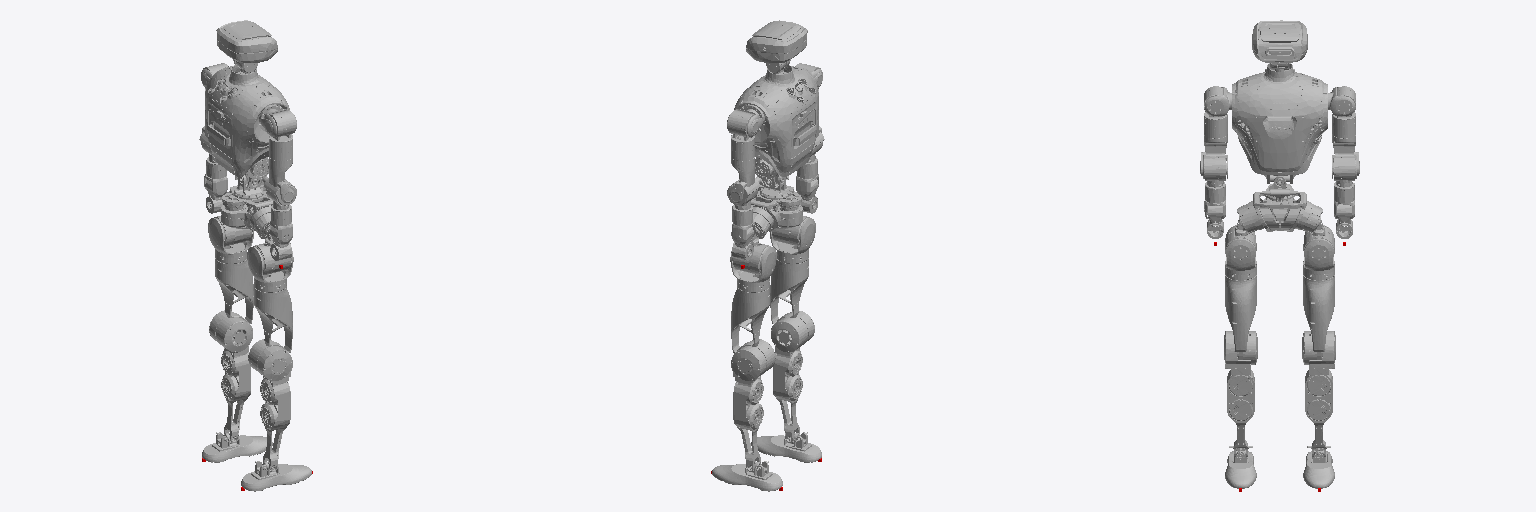
--- Render facts (derived) ---
Views: 3 orthographic renders of the robot side by side, from view 1: azimuth 30°, elevation 25°; view 2: azimuth 150°, elevation 25°; view 3: azimuth 270°, elevation 25°.
Model HU_D04_01 with 52 links and 51 joints (39 revolute, 12 fixed), rooted at base_link, posed all joints at 0.
Visible links, largest first — view 1: waist_pitch_link, right_knee_link, left_hip_yaw_link, head_pitch_link, left_knee_link, right_hip_yaw_link, base_link, right_ankle_roll_link, left_ankle_roll_link, right_shoulder_roll_link, right_hip_roll_link, left_hip_roll_link (+3 smaller); view 2: waist_pitch_link, left_knee_link, right_hip_yaw_link, head_pitch_link, right_knee_link, left_hip_yaw_link, base_link, left_ankle_roll_link, right_ankle_roll_link, left_shoulder_roll_link, left_hip_roll_link, right_hip_roll_link (+3 smaller); view 3: waist_pitch_link, base_link, left_knee_link, right_knee_link, head_pitch_link, right_hip_yaw_link, left_hip_yaw_link, left_hip_roll_link, right_hip_roll_link, right_ankle_roll_link, left_ankle_roll_link, left_elbow_link (+6 smaller).
Link boxes in pixels (x1,y1,x2,y2): waist_pitch_link: (205, 65, 289, 188); right_knee_link: (257, 346, 292, 471); left_hip_yaw_link: (215, 258, 253, 352); head_pitch_link: (216, 20, 277, 72); left_knee_link: (209, 310, 250, 442); right_hip_yaw_link: (248, 286, 292, 373); base_link: (221, 185, 272, 238); right_ankle_roll_link: (241, 461, 311, 491); left_ankle_roll_link: (202, 432, 272, 462); right_shoulder_roll_link: (269, 110, 295, 160); right_hip_roll_link: (247, 247, 293, 292); left_hip_roll_link: (208, 218, 253, 263); waist_pitch_link: (734, 65, 818, 188); left_knee_link: (731, 346, 766, 471); right_hip_yaw_link: (770, 258, 808, 352); head_pitch_link: (746, 20, 807, 72); right_knee_link: (773, 311, 814, 442); left_hip_yaw_link: (731, 286, 775, 373); base_link: (751, 185, 802, 238); left_ankle_roll_link: (712, 461, 782, 491); right_ankle_roll_link: (751, 432, 821, 462); left_shoulder_roll_link: (728, 110, 754, 160); left_hip_roll_link: (730, 247, 776, 292); right_hip_roll_link: (769, 218, 815, 263); waist_pitch_link: (1232, 63, 1327, 183); base_link: (1237, 183, 1322, 233); left_knee_link: (1305, 331, 1335, 456); right_knee_link: (1224, 331, 1254, 456); head_pitch_link: (1252, 20, 1307, 68); right_hip_yaw_link: (1225, 275, 1257, 364); left_hip_yaw_link: (1302, 275, 1334, 364); left_hip_roll_link: (1303, 225, 1334, 280); right_hip_roll_link: (1225, 225, 1256, 280); right_ankle_roll_link: (1225, 446, 1256, 488); left_ankle_roll_link: (1303, 446, 1334, 488); left_elbow_link: (1333, 157, 1354, 202).
Bounding box of the posed robot: 0.2994 × 0.5293 × 1.62 m (x, y, z).
30 mesh visuals loaded from 37 distinct referenced files (30 binary STL); not drawn: 12 (reference not matched to a file when rendering).

robot.urdf — HU_D04_01:
<?xml version="1.0" encoding="utf-8"?>
<robot
  name="HU_D04_01">

  <!-- <link name="root_link">
    <inertial>
      <origin xyz="0 0 0" rpy="0 0 0" />
      <mass value="0.001" />
      <inertia ixx="1E-10" ixy="0" ixz="0" iyy="1E-10" iyz="0" izz="1E-10" />
    </inertial>
  </link>
  <joint name="floating_base_joint" type="floating">
    <origin xyz="0.0 0.0 0.0" rpy="0 0 0" />
    <parent link="root_link" />
    <child link="base_link" />
  </joint> -->


  <link name="base_link">
    <inertial>
      <origin
        xyz="0.002916 -8E-06 0.041359"
        rpy="0 0 0" />
      <mass
        value="5.904962" />
      <inertia
        ixx="0.038209"
        ixy="4E-06"
        ixz="0.001989"
        iyy="0.013916"
        iyz="-8E-06"
        izz="0.040472" />
    </inertial>
    <visual>
      <origin
        xyz="0 0 0"
        rpy="0 0 0" />
      <geometry>
        <mesh
          filename="package://HU_D04_description/meshes/HU_D04_01/base_link.STL" />
      </geometry>
      <material
        name="">
        <color
          rgba="0.75294 0.75294 0.75294 1" />
      </material>
    </visual>
    <!-- <collision>
      <origin
        xyz="0 0 0"
        rpy="0 0 0" />
      <geometry>
        <mesh
          filename="package://HU_D04_description/meshes/HU_D04_01/base_link.STL" />
      </geometry>
    </collision> -->
  </link>
  <link name="left_hip_pitch_link">
    <inertial>
      <origin
        xyz="0.0019 0.001536 -0.086008"
        rpy="0 0 0" />
      <mass
        value="2.255011" />
      <inertia
        ixx="0.003233"
        ixy="2E-06"
        ixz="-1.3E-05"
        iyy="0.003816"
        iyz="3.5E-05"
        izz="0.002888" />
    </inertial>
    <visual>
      <origin
        xyz="0 0 0"
        rpy="0 0 0" />
      <geometry>
        <mesh
          filename="package://HU_D04_description/meshes/HU_D04_01/left_hip_pitch_link.STL" />
      </geometry>
      <material
        name="">
        <color
          rgba="0.75294 0.75294 0.75294 1" />
      </material>
    </visual>
    <!-- <collision>
      <origin
        xyz="0 0 0"
        rpy="0 0 0" />
      <geometry>
        <mesh
          filename="package://HU_D04_description/meshes/HU_D04_01/left_hip_pitch_link.STL" />
      </geometry>
    </collision> -->
  </link>
  <joint name="left_hip_pitch_joint"
    type="revolute">
    <origin
      xyz="0.017007 0.1283 0.0081917"
      rpy="0 0 0" />
    <parent
      link="base_link" />
    <child
      link="left_hip_pitch_link" />
    <axis
      xyz="0 0.90631 -0.42262" />
    <limit
      lower="-2.618"
      upper="2.618"
      effort="140"
      velocity="5" />
  </joint>
  <link name="left_hip_roll_link">
    <inertial>
      <origin
        xyz="0.00075 1E-05 -0.118609"
        rpy="0 0 0" />
      <mass
        value="2.121806" />
      <inertia
        ixx="0.004035"
        ixy="3E-06"
        ixz="-0.000137"
        iyy="0.004267"
        iyz="1E-06"
        izz="0.002342" />
    </inertial>
    <visual>
      <origin
        xyz="0 0 0"
        rpy="0 0 0" />
      <geometry>
        <mesh
          filename="package://HU_D04_description/meshes/HU_D04_01/left_hip_roll_link.STL" />
      </geometry>
      <material
        name="">
        <color
          rgba="0.75294 0.75294 0.75294 1" />
      </material>
    </visual>
    <!-- <collision>
      <origin
        xyz="0 0 0"
        rpy="0 0 0" />
      <geometry>
        <mesh
          filename="package://HU_D04_description/meshes/HU_D04_01/left_hip_roll_link.STL" />
      </geometry>
    </collision> -->
  </link>
  <joint name="left_hip_roll_joint"
    type="revolute">
    <origin
      xyz="-0.01 0.0016596 -0.0920417"
      rpy="0 0 0" />
    <parent
      link="left_hip_pitch_link" />
    <child
      link="left_hip_roll_link" />
    <axis
      xyz="1 0 0" />
    <limit
      lower="-0.8727"
      upper="2.094"
      effort="140"
      velocity="5" />
  </joint>
  <link name="left_hip_yaw_link">
    <inertial>
      <origin
        xyz="0.006364 0.000963 -0.143266"
        rpy="0 0 0" />
      <mass
        value="2.994098" />
      <inertia
        ixx="0.024104"
        ixy="9E-06"
        ixz="-0.001176"
        iyy="0.024609"
        iyz="0.000111"
        izz="0.004856" />
    </inertial>
    <visual>
      <origin
        xyz="0 0 0"
        rpy="0 0 0" />
      <geometry>
        <mesh
          filename="package://HU_D04_description/meshes/HU_D04_01/left_hip_yaw_link.STL" />
      </geometry>
      <material
        name="">
        <color
          rgba="0.75294 0.75294 0.75294 1" />
      </material>
    </visual>
    <!-- <collision>
      <origin
        xyz="0 0 0"
        rpy="0 0 0" />
      <geometry>
        <mesh
          filename="package://HU_D04_description/meshes/HU_D04_01/left_hip_yaw_link.STL" />
      </geometry>
    </collision> -->
  </link>
  <joint name="left_hip_yaw_joint"
    type="revolute">
    <origin
      xyz="0 0 -0.1774"
      rpy="0 0 0" />
    <parent
      link="left_hip_roll_link" />
    <child
      link="left_hip_yaw_link" />
    <axis
      xyz="0 0 1" />
    <limit
      lower="-2.618"
      upper="2.618"
      effort="140"
      velocity="5" />
  </joint>
  <link name="left_knee_link">
    <inertial>
      <origin
        xyz="0.008034 0.005502 -0.139341"
        rpy="0 0 0" />
      <mass
        value="3.004275" />
      <inertia
        ixx="0.026945"
        ixy="9.1E-05"
        ixz="8.3E-05"
        iyy="0.026541"
        iyz="-0.00215"
        izz="0.003135" />
    </inertial>
    <visual>
      <origin
        xyz="0 0 0"
        rpy="0 0 0" />
      <geometry>
        <mesh
          filename="package://HU_D04_description/meshes/HU_D04_01/left_knee_link.STL" />
      </geometry>
      <material
        name="">
        <color
          rgba="0.75294 0.75294 0.75294 1" />
      </material>
    </visual>
    <!-- <collision>
      <origin
        xyz="0 0 0"
        rpy="0 0 0" />
      <geometry>
        <mesh
          filename="package://HU_D04_description/meshes/HU_D04_01/left_knee_link.STL" />
      </geometry>
    </collision> -->
  </link>
  <joint name="left_knee_joint"
    type="revolute">
    <origin
      xyz="0 0 -0.1976"
      rpy="0 0 0" />
    <parent
      link="left_hip_yaw_link" />
    <child
      link="left_knee_link" />
    <axis
      xyz="0 1 0" />
    <limit
      lower="-0.087"
      upper="2.583"
      effort="140"
      velocity="5" />
  </joint>
  <link name="left_ankle_pitch_link">
    <inertial>
      <origin
        xyz="0 0 0.001077"
        rpy="0 0 0" />
      <mass
        value="0.042944" />
      <inertia
        ixx="4E-06"
        ixy="0"
        ixz="0"
        iyy="2E-06"
        iyz="0"
        izz="4E-06" />
    </inertial>
    <visual>
      <origin
        xyz="0 0 0"
        rpy="0 0 0" />
      <geometry>
        <mesh
          filename="package://HU_D04_description/meshes/HU_D04_01/left_ankle_pitch_link.STL" />
      </geometry>
      <material
        name="">
        <color
          rgba="0.75294 0.75294 0.75294 1" />
      </material>
    </visual>
    <!-- <collision>
      <origin
        xyz="0 0 0"
        rpy="0 0 0" />
      <geometry>
        <mesh
          filename="package://HU_D04_description/meshes/HU_D04_01/left_ankle_pitch_link.STL" />
      </geometry>
    </collision> -->
  </link>
  <joint name="left_ankle_pitch_joint"
    type="revolute">
    <origin
      xyz="0 0 -0.385"
      rpy="0 0 0" />
    <parent
      link="left_knee_link" />
    <child
      link="left_ankle_pitch_link" />
    <axis
      xyz="0 1 0" />
    <limit
      lower="-1.012"
      upper="0.611"
      effort="42"
      velocity="13.6" />
  </joint>
  <link name="left_ankle_roll_link">
    <inertial>
      <origin
        xyz="0.009720 0 -0.035233"
        rpy="0 0 0" />
      <mass
        value="1.206425" />
      <inertia
        ixx="0.000924"
        ixy="0"
        ixz="0.000471"
        iyy="0.004760"
        iyz="0"
        izz="0.004924" />
    </inertial>
    <visual>
      <origin
        xyz="0 0 0"
        rpy="0 0 0" />
      <geometry>
        <mesh
          filename="package://HU_D04_description/meshes/HU_D04_01/left_ankle_roll_link.STL" />
      </geometry>
      <material
        name="">
        <color
          rgba="0.75294 0.75294 0.75294 1" />
      </material>
    </visual>
    <collision>
      <origin rpy="0 0 0" xyz="0.018 0 -0.0535"/>
      <geometry>
        <box size="0.25 0.094 0.02"/>
      </geometry>
    </collision>
    <!-- <collision>
      <origin
        xyz="0 0 0"
        rpy="0 0 0" />
      <geometry>
        <mesh
          filename="package://HU_D04_description/meshes/HU_D04_01/left_ankle_roll_link.STL" />
      </geometry>
    </collision> -->
  </link>
  <joint name="left_ankle_roll_joint"
    type="revolute">
    <origin
      xyz="0 0 0"
      rpy="0 0 0" />
    <parent
      link="left_ankle_pitch_link" />
    <child
      link="left_ankle_roll_link" />
    <axis
      xyz="1 0 0" />
    <limit
      lower="-0.436"
      upper="0.436"
      effort="42"
      velocity="13.6" />
  </joint>

  <!-- Left Foot Contact -->
  <joint name="contact_foot_center_joint_L" type="fixed">
    <origin xyz="0.0 0 -0.0625" rpy="0 0 0" />
    <parent link="left_ankle_roll_link" />
    <child link="contact_foot_center_L" />
  </joint>
  <link name="contact_foot_center_L">
    <inertial>
      <origin xyz=".0 .0 .0" rpy="0 0 0" />
      <mass value="0.001" />
      <inertia ixx="0.0000001" ixy="0.0" ixz="0.0" iyy="0.0000001" iyz="0.0" izz="0.0000001" />
    </inertial>
    <visual>
      <origin xyz="0 0 0" rpy="0 0 0" />
      <geometry>
        <box size="0.01 0.01 0.01"/>
      </geometry>
      <material name="">
        <color rgba="1 0 0 1" />
      </material>
    </visual>
  </link>

  <joint name="contact_foot_heel_joint_L" type="fixed">
    <origin xyz="-0.106 0 -0.0625" rpy="0 0 0" />
    <parent link="left_ankle_roll_link" />
    <child link="contact_foot_heel_L" />
  </joint>
  <link name="contact_foot_heel_L">
    <inertial>
      <origin xyz=".0 .0 .0" rpy="0 0 0" />
      <mass value="0.001" />
      <inertia ixx="0.0000001" ixy="0.0" ixz="0.0" iyy="0.0000001" iyz="0.0" izz="0.0000001" />
    </inertial>
    <visual>
      <origin xyz="0 0 0" rpy="0 0 0" />
      <geometry>
        <box size="0.01 0.01 0.01"/>
      </geometry>
      <material name="">
        <color rgba="1 0 0 1" />
      </material>
    </visual>
  </link>

  <joint name="contact_foot_tip_joint_L" type="fixed">
    <origin xyz="0.154 0 -0.0625" rpy="0 0 0" />
    <parent link="left_ankle_roll_link" />
    <child link="contact_foot_tip_L" />
  </joint>
  <link name="contact_foot_tip_L">
    <inertial>
      <origin xyz=".0 .0 .0" rpy="0 0 0" />
      <mass value="0.001" />
      <inertia ixx="0.0000001" ixy="0.0" ixz="0.0" iyy="0.0000001" iyz="0.0" izz="0.0000001" />
    </inertial>
    <visual>
      <origin xyz="0 0 0" rpy="0 0 0" />
      <geometry>
        <box size="0.01 0.01 0.01"/>
      </geometry>
      <material name="">
        <color rgba="1 0 0 1" />
      </material>
    </visual>
  </link>

  <link name="right_hip_pitch_link">
    <inertial>
      <origin
        xyz="0.0019 -0.001536 -0.086008"
        rpy="0 0 0" />
      <mass
        value="2.253993" />
      <inertia
        ixx="0.003231"
        ixy="-1.8E-05"
        ixz="-1.2E-05"
        iyy="0.003814"
        iyz="-2E-06"
        izz="0.002888" />
    </inertial>
    <visual>
      <origin
        xyz="0 0 0"
        rpy="0 0 0" />
      <geometry>
        <mesh
          filename="package://HU_D04_description/meshes/HU_D04_01/right_hip_pitch_link.STL" />
      </geometry>
      <material
        name="">
        <color
          rgba="0.75294 0.75294 0.75294 1" />
      </material>
    </visual>
    <!-- <collision>
      <origin
        xyz="0 0 0"
        rpy="0 0 0" />
      <geometry>
        <mesh
          filename="package://HU_D04_description/meshes/HU_D04_01/right_hip_pitch_link.STL" />
      </geometry>
    </collision> -->
  </link>
  <joint name="right_hip_pitch_joint"
    type="revolute">
    <origin
      xyz="0.017007 -0.1283 0.0081917"
      rpy="0 0 0" />
    <parent
      link="base_link" />
    <child
      link="right_hip_pitch_link" />
    <axis
      xyz="0 0.90631 0.42262" />
    <limit
      lower="-2.618"
      upper="2.618"
      effort="140"
      velocity="5" />
  </joint>
  <link name="right_hip_roll_link">
    <inertial>
      <origin
        xyz="0.000764 1E-05 -0.118627"
        rpy="0 0 0" />
      <mass
        value="2.121322" />
      <inertia
        ixx="0.004031"
        ixy="3E-06"
        ixz="-0.000139"
        iyy="0.004262"
        iyz="1E-06"
        izz="0.00234" />
    </inertial>
    <visual>
      <origin
        xyz="0 0 0"
        rpy="0 0 0" />
      <geometry>
        <mesh
          filename="package://HU_D04_description/meshes/HU_D04_01/right_hip_roll_link.STL" />
      </geometry>
      <material
        name="">
        <color
          rgba="0.75294 0.75294 0.75294 1" />
      </material>
    </visual>
    <!-- <collision>
      <origin
        xyz="0 0 0"
        rpy="0 0 0" />
      <geometry>
        <mesh
          filename="package://HU_D04_description/meshes/HU_D04_01/right_hip_roll_link.STL" />
      </geometry>
    </collision> -->
  </link>
  <joint name="right_hip_roll_joint"
    type="revolute">
    <origin
      xyz="-0.01 -0.0016596 -0.0920417"
      rpy="0 0 0" />
    <parent
      link="right_hip_pitch_link" />
    <child
      link="right_hip_roll_link" />
    <axis
      xyz="1 0 0" />
    <limit
      lower="-2.094"
      upper="0.8727"
      effort="140"
      velocity="5" />
  </joint>
  <link name="right_hip_yaw_link">
    <inertial>
      <origin
        xyz="0.006367 -0.000835 -0.143269"
        rpy="0 0 0" />
      <mass
        value="2.994098" />
      <inertia
        ixx="0.024106"
        ixy="-8E-06"
        ixz="-0.001175"
        iyy="0.02461"
        iyz="-0.000165"
        izz="0.004856" />
    </inertial>
    <visual>
      <origin
        xyz="0 0 0"
        rpy="0 0 0" />
      <geometry>
        <mesh
          filename="package://HU_D04_description/meshes/HU_D04_01/right_hip_yaw_link.STL" />
      </geometry>
      <material
        name="">
        <color
          rgba="0.75294 0.75294 0.75294 1" />
      </material>
    </visual>
    <!-- <collision>
      <origin
        xyz="0 0 0"
        rpy="0 0 0" />
      <geometry>
        <mesh
          filename="package://HU_D04_description/meshes/HU_D04_01/right_hip_yaw_link.STL" />
      </geometry>
    </collision> -->
  </link>
  <joint name="right_hip_yaw_joint"
    type="revolute">
    <origin
      xyz="0 0 -0.1774"
      rpy="0 0 0" />
    <parent
      link="right_hip_roll_link" />
    <child
      link="right_hip_yaw_link" />
    <axis
      xyz="0 0 1" />
    <limit
      lower="-2.618"
      upper="2.618"
      effort="140"
      velocity="5" />
  </joint>
  <link name="right_knee_link">
    <inertial>
      <origin
        xyz="0.007541 -0.00542 -0.140219"
        rpy="0 0 0" />
      <mass
        value="2.944928" />
      <inertia
        ixx="0.026634"
        ixy="-9.1E-05"
        ixz="0.000115"
        iyy="0.026187"
        iyz="0.002135"
        izz="0.00303" />
    </inertial>
    <visual>
      <origin
        xyz="0 0 0"
        rpy="0 0 0" />
      <geometry>
        <mesh
          filename="package://HU_D04_description/meshes/HU_D04_01/right_knee_link.STL" />
      </geometry>
      <material
        name="">
        <color
          rgba="0.75294 0.75294 0.75294 1" />
      </material>
    </visual>
    <!-- <collision>
      <origin
        xyz="0 0 0"
        rpy="0 0 0" />
      <geometry>
        <mesh
          filename="package://HU_D04_description/meshes/HU_D04_01/right_knee_link.STL" />
      </geometry>
    </collision> -->
  </link>
  <joint name="right_knee_joint"
    type="revolute">
    <origin
      xyz="0 0 -0.1976"
      rpy="0 0 0" />
    <parent
      link="right_hip_yaw_link" />
    <child
      link="right_knee_link" />
    <axis
      xyz="0 1 0" />
    <limit
      lower="-0.087"
      upper="2.583"
      effort="140"
      velocity="5" />
  </joint>
  <link name="right_ankle_pitch_link">
    <inertial>
      <origin
        xyz="0 0 0.001077"
        rpy="0 0 0" />
      <mass
        value="0.042944" />
      <inertia
        ixx="4E-06"
        ixy="0"
        ixz="0"
        iyy="2E-06"
        iyz="0"
        izz="4E-06" />
    </inertial>
    <visual>
      <origin
        xyz="0 0 0"
        rpy="0 0 0" />
      <geometry>
        <mesh
          filename="package://HU_D04_description/meshes/HU_D04_01/right_ankle_pitch_link.STL" />
      </geometry>
      <material
        name="">
        <color
          rgba="0.75294 0.75294 0.75294 1" />
      </material>
    </visual>
    <!-- <collision>
      <origin
        xyz="0 0 0"
        rpy="0 0 0" />
      <geometry>
        <mesh
          filename="package://HU_D04_description/meshes/HU_D04_01/right_ankle_pitch_link.STL" />
      </geometry>
    </collision> -->
  </link>
  <joint name="right_ankle_pitch_joint"
    type="revolute">
    <origin
      xyz="0 0 -0.385"
      rpy="0 0 0" />
    <parent
      link="right_knee_link" />
    <child
      link="right_ankle_pitch_link" />
    <axis
      xyz="0 1 0" />
    <limit
      lower="-1.012"
      upper="0.611"
      effort="42"
      velocity="13.6" />
  </joint>
  <link name="right_ankle_roll_link">
    <inertial>
      <origin
        xyz="0.009720 0 -0.035233"
        rpy="0 0 0" />
      <mass
        value="1.206425" />
      <inertia
        ixx="0.000924"
        ixy="0"
        ixz="0.000471"
        iyy="0.004760"
        iyz="0"
        izz="0.004924" />
    </inertial>
    <visual>
      <origin
        xyz="0 0 0"
        rpy="0 0 0" />
      <geometry>
        <mesh
          filename="package://HU_D04_description/meshes/HU_D04_01/right_ankle_roll_link.STL" />
      </geometry>
      <material
        name="">
        <color
          rgba="0.75294 0.75294 0.75294 1" />
      </material>
    </visual>
    <collision>
      <origin rpy="0 0 0" xyz="0.018 0 -0.0535"/>
      <geometry>
        <box size="0.25 0.094 0.02"/>
      </geometry>
    </collision>
    <!-- <collision>
      <origin
        xyz="0 0 0"
        rpy="0 0 0" />
      <geometry>
        <mesh
          filename="package://HU_D04_description/meshes/HU_D04_01/right_ankle_roll_link.STL" />
      </geometry>
    </collision> -->
  </link>
  <joint name="right_ankle_roll_joint"
    type="revolute">
    <origin
      xyz="0 0 0"
      rpy="0 0 0" />
    <parent
      link="right_ankle_pitch_link" />
    <child
      link="right_ankle_roll_link" />
    <axis
      xyz="1 0 0" />
    <limit
      lower="-0.436"
      upper="0.436"
      effort="42"
      velocity="13.6" />
  </joint>

  <!-- Right Foot Contact -->
  <joint name="contact_foot_center_joint_R" type="fixed">
    <origin xyz="0.0 0 -0.0625" rpy="0 0 0" />
    <parent link="right_ankle_roll_link" />
    <child link="contact_foot_center_R" />
  </joint>
  <link name="contact_foot_center_R">
    <inertial>
      <origin xyz=".0 .0 .0" rpy="0 0 0" />
      <mass value="0.001" />
      <inertia ixx="0.0000001" ixy="0.0" ixz="0.0" iyy="0.0000001" iyz="0.0" izz="0.0000001" />
    </inertial>
    <visual>
      <origin xyz="0 0 0" rpy="0 0 0" />
      <geometry>
        <box size="0.01 0.01 0.01"/>
      </geometry>
      <material name="">
        <color rgba="1 0 0 1" />
      </material>
    </visual>
  </link>

  <joint name="contact_foot_heel_joint_R" type="fixed">
    <origin xyz="-0.106 0 -0.0625" rpy="0 0 0" />
    <parent link="right_ankle_roll_link" />
    <child link="contact_foot_heel_R" />
  </joint>
  <link name="contact_foot_heel_R">
    <inertial>
      <origin xyz=".0 .0 .0" rpy="0 0 0" />
      <mass value="0.001" />
      <inertia ixx="0.0000001" ixy="0.0" ixz="0.0" iyy="0.0000001" iyz="0.0" izz="0.0000001" />
    </inertial>
    <visual>
      <origin xyz="0 0 0" rpy="0 0 0" />
      <geometry>
        <box size="0.01 0.01 0.01"/>
      </geometry>
      <material name="">
        <color rgba="1 0 0 1" />
      </material>
    </visual>
  </link>

  <joint name="contact_foot_tip_joint_R" type="fixed">
    <origin xyz="0.154 0 -0.0625" rpy="0 0 0" />
    <parent link="right_ankle_roll_link" />
    <child link="contact_foot_tip_R" />
  </joint>
  <link name="contact_foot_tip_R">
    <inertial>
      <origin xyz=".0 .0 .0" rpy="0 0 0" />
      <mass value="0.001" />
      <inertia ixx="0.0000001" ixy="0.0" ixz="0.0" iyy="0.0000001" iyz="0.0" izz="0.0000001" />
    </inertial>
    <visual>
      <origin xyz="0 0 0" rpy="0 0 0" />
      <geometry>
        <box size="0.01 0.01 0.01"/>
      </geometry>
      <material name="">
        <color rgba="1 0 0 1" />
      </material>
    </visual>
  </link>

  <link name="waist_yaw_link">
    <inertial>
      <origin
        xyz="0.019885 -0.000163 0.029632"
        rpy="0 0 0" />
      <mass
        value="0.654749" />
      <inertia
        ixx="0.000616"
        ixy="-5E-06"
        ixz="-2.1E-05"
        iyy="0.001108"
        iyz="1E-06"
        izz="0.001156" />
    </inertial>
    <visual>
      <origin
        xyz="0 0 0"
        rpy="0 0 0" />
      <geometry>
        <mesh
          filename="package://HU_D04_description/meshes/HU_D04_01/waist_yaw_link.STL" />
      </geometry>
      <material
        name="">
        <color
          rgba="0.75294 0.75294 0.75294 1" />
      </material>
    </visual>
    <!-- <collision>
      <origin
        xyz="0 0 0"
        rpy="0 0 0" />
      <geometry>
        <mesh
          filename="package://HU_D04_description/meshes/HU_D04_01/waist_yaw_link.STL" />
      </geometry>
    </collision> -->
  </link>
  <joint name="waist_yaw_joint"
    type="revolute">
    <origin
      xyz="0 0 0.10239"
      rpy="0 0 0" />
    <parent
      link="base_link" />
    <child
      link="waist_yaw_link" />
    <axis
      xyz="0 0 1" />
    <limit
      lower="-2.618"
      upper="2.618"
      effort="42"
      velocity="13.6" />
  </joint>
  <link name="waist_roll_link">
    <inertial>
      <origin
        xyz="0 0 -0.000149"
        rpy="0 0 0" />
      <mass
        value="0.291501" />
      <inertia
        ixx="0.00016"
        ixy="0"
        ixz="0"
        iyy="3.6E-05"
        iyz="0"
        izz="0.000164" />
    </inertial>
    <visual>
      <origin
        xyz="0 0 0"
        rpy="0 0 0" />
      <geometry>
        <mesh
          filename="package://HU_D04_description/meshes/HU_D04_01/waist_roll_link.STL" />
      </geometry>
      <material
        name="">
        <color
          rgba="0.75294 0.75294 0.75294 1" />
      </material>
    </visual>
    <!-- <collision>
      <origin
        xyz="0 0 0"
        rpy="0 0 0" />
      <geometry>
        <mesh
          filename="package://HU_D04_description/meshes/HU_D04_01/waist_roll_link.STL" />
      </geometry>
    </collision> -->
  </link>
  <joint name="waist_roll_joint"
    type="revolute">
    <origin
      xyz="0 0 0.057"
      rpy="0 0 0" />
    <parent
      link="waist_yaw_link" />
    <child
      link="waist_roll_link" />
    <axis
      xyz="1 0 0" />
    <limit
      lower="-0.524"
      upper="0.524"
      effort="42"
      velocity="13.6" />
  </joint>
  <link name="waist_pitch_link">
    <inertial>
      <origin
        xyz="-0.006815 0.000038 0.196229"
        rpy="0 0 0" />
      <mass
        value="11.882244" />
      <inertia
        ixx="0.169231"
        ixy="0.000065"
        ixz="0.000953"
        iyy="0.136241"
        iyz="-0.000057"
        izz="0.104458" />
    </inertial>
    <visual>
      <origin
        xyz="0 0 0"
        rpy="0 0 0" />
      <geometry>
        <mesh
          filename="package://HU_D04_description/meshes/HU_D04_01/waist_pitch_link.STL" />
      </geometry>
      <material
        name="">
        <color
          rgba="0.75294 0.75294 0.75294 1" />
      </material>
    </visual>
    <!-- <collision>
      <origin
        xyz="0 0 0"
        rpy="0 0 0" />
      <geometry>
        <mesh
          filename="package://HU_D04_description/meshes/HU_D04_01/waist_pitch_link.STL" />
      </geometry>
    </collision> -->
  </link>
  <joint name="waist_pitch_joint"
    type="revolute">
    <origin
      xyz="0 0 0"
      rpy="0 0 0" />
    <parent
      link="waist_roll_link" />
    <child
      link="waist_pitch_link" />
    <axis
      xyz="0 1 0" />
    <limit
      lower="-0.524"
      upper="0.785"
      effort="42"
      velocity="13.6" />
  </joint>
  
  <link name="left_shoulder_pitch_link">
    <inertial>
      <origin
        xyz="0.003151 0.031104 -2.2E-05"
        rpy="0 0 0" />
      <mass
        value="0.244765" />
      <inertia
        ixx="0.000253"
        ixy="-2.3E-05"
        ixz="0"
        iyy="0.000367"
        iyz="0"
        izz="0.000429" />
    </inertial>
    <visual>
      <origin
        xyz="0 0 0"
        rpy="0 0 0" />
      <geometry>
        <mesh
          filename="package://HU_D04_description/meshes/HU_D04_01/left_shoulder_pitch_link.STL" />
      </geometry>
      <material
        name="">
        <color
          rgba="0.75294 0.75294 0.75294 1" />
      </material>
    </visual>
    <!-- <collision>
      <origin
        xyz="0 0 0"
        rpy="0 0 0" />
      <geometry>
        <mesh
          filename="package://HU_D04_description/meshes/HU_D04_01/left_shoulder_pitch_link.STL" />
      </geometry>
    </collision> -->
  </link>
  <joint name="left_shoulder_pitch_joint"
    type="revolute">
    <origin
      xyz="0 0.1589 0.2822"
      rpy="0 0 0" />
    <parent
      link="waist_pitch_link" />
    <child
      link="left_shoulder_pitch_link" />
    <axis
      xyz="0 1 0" />
    <limit
      lower="-2.792"
      upper="2.792"
      effort="42"
      velocity="19.6" />
  </joint>
  <link name="left_shoulder_roll_link">
    <inertial>
      <origin
        xyz="0.003525 8.8E-05 -0.046695"
        rpy="0 0 0" />
      <mass
        value="1.740745" />
      <inertia
        ixx="0.004948"
        ixy="0"
        ixz="-0.000258"
        iyy="0.004931"
        iyz="2E-06"
        izz="0.001384" />
    </inertial>
    <visual>
      <origin
        xyz="0 0 0"
        rpy="0 0 0" />
      <geometry>
        <mesh
          filename="package://HU_D04_description/meshes/HU_D04_01/left_shoulder_roll_link.STL" />
      </geometry>
      <material
        name="">
        <color
          rgba="0.75294 0.75294 0.75294 1" />
      </material>
    </visual>
    <!-- <collision>
      <origin
        xyz="0 0 0"
        rpy="0 0 0" />
      <geometry>
        <mesh
          filename="package://HU_D04_description/meshes/HU_D04_01/left_shoulder_roll_link.STL" />
      </geometry>
    </collision> -->
  </link>
  <joint name="left_shoulder_roll_joint"
    type="revolute">
    <origin
      xyz="0 0.055 0"
      rpy="0 0 0" />
    <parent
      link="left_shoulder_pitch_link" />
    <child
      link="left_shoulder_roll_link" />
    <axis
      xyz="1 0 0" />
    <limit
      lower="-0.087"
      upper="3.229"
      effort="42"
      velocity="19.6" />
  </joint>
  <link name="left_shoulder_yaw_link">
    <inertial>
      <origin
        xyz="-0.010067 0.003571 -0.065207"
        rpy="0 0 0" />
      <mass
        value="0.307657" />
      <inertia
        ixx="0.000874"
        ixy="-8E-06"
        ixz="-1.9E-05"
        iyy="0.000738"
        iyz="3.4E-05"
        izz="0.000405" />
    </inertial>
    <visual>
      <origin
        xyz="0 0 0"
        rpy="0 0 0" />
      <geometry>
        <mesh
          filename="package://HU_D04_description/meshes/HU_D04_01/left_shoulder_yaw_link.STL" />
      </geometry>
      <material
        name="">
        <color
          rgba="0.75294 0.75294 0.75294 1" />
      </material>
    </visual>
    <!-- <collision>
      <origin
        xyz="0 0 0"
        rpy="0 0 0" />
      <geometry>
        <mesh
          filename="package://HU_D04_description/meshes/HU_D04_01/left_shoulder_yaw_link.STL" />
      </geometry>
    </collision> -->
  </link>
  <joint name="left_shoulder_yaw_joint"
    type="revolute">
    <origin
      xyz="0 0 -0.1306"
      rpy="0 0 0" />
    <parent
      link="left_shoulder_roll_link" />
    <child
      link="left_shoulder_yaw_link" />
    <axis
      xyz="0 0 1" />
    <limit
      lower="-3.403"
      upper="1.571"
      effort="42"
      velocity="19.6" />
  </joint>
  <link name="left_elbow_link">
    <inertial>
      <origin
        xyz="0.000057 0.004497 -0.027441"
        rpy="0 0 0" />
      <mass
        value="1.275459" />
      <inertia
        ixx="0.002852"
        ixy="-0.000003"
        ixz="0.000017"
        iyy="0.002876"
        iyz="-0.000129"
        izz="0.000888" />
    </inertial>
    <visual>
      <origin
        xyz="0 0 0"
        rpy="0 0 0" />
      <geometry>
        <mesh
          filename="package://HU_D04_description/meshes/HU_D04_01/left_elbow_link.STL" />
      </geometry>
      <material
        name="">
        <color
          rgba="0.75294 0.75294 0.75294 1" />
      </material>
    </visual>
    <!-- <collision>
      <origin
        xyz="0 0 0"
        rpy="0 0 0" />
      <geometry>
        <mesh
          filename="package://HU_D04_description/meshes/HU_D04_01/left_elbow_link.STL" />
      </geometry>
    </collision> -->
  </link>
  <joint name="left_elbow_joint"
    type="revolute">
    <origin
      xyz="0 0 -0.1157"
      rpy="0 0 0" />
    <parent
      link="left_shoulder_yaw_link" />
    <child
      link="left_elbow_link" />
    <axis
      xyz="0 1 0" />
    <limit
      lower="-2.443"
      upper="1.571"
      effort="42"
      velocity="19.6" />
  </joint>
  <link name="left_wrist_yaw_link">
    <inertial>
      <origin
        xyz="-0.002420 0.000421 -0.014840"
        rpy="0 0 0" />
      <mass
        value="0.132906" />
      <inertia
        ixx="0.000145"
        ixy="0"
        ixz="0"
        iyy="0.000086"
        iyz="0.000001"
        izz="0.000142" />
    </inertial>
    <visual>
      <origin
        xyz="0 0 0"
        rpy="0 0 0" />
      <geometry>
        <mesh
          filename="package://HU_D04_description/meshes/HU_D04_01/left_wrist_yaw_link.STL" />
      </geometry>
      <material
        name="">
        <color
          rgba="0.75294 0.75294 0.75294 1" />
      </material>
    </visual>
    <!-- <collision>
      <origin
        xyz="0 0 0"
        rpy="0 0 0" />
      <geometry>
        <mesh
          filename="package://HU_D04_description/meshes/HU_D04_01/left_wrist_yaw_link.STL" />
      </geometry>
    </collision> -->
  </link>
  <joint name="left_wrist_yaw_joint"
    type="revolute">
    <origin
      xyz="0 0.001 -0.1188"
      rpy="0 0 0" />
    <parent
      link="left_elbow_link" />
    <child
      link="left_wrist_yaw_link" />
    <axis
      xyz="0 0 1" />
    <limit
      lower="-2.356"
      upper="0.785"
      effort="19"
      velocity="13" />
  </joint>
  <link name="left_wrist_pitch_link">
    <inertial>
      <origin
        xyz="0.001436 0.001303 -0.032233"
        rpy="0 0 0" />
      <mass
        value="0.658602" />
      <inertia
        ixx="0.000952"
        ixy="0.000001"
        ixz="0.000028"
        iyy="0.000963"
        iyz="-0.000024"
        izz="0.000296" />
    </inertial>
    <visual>
      <origin
        xyz="0 0 0"
        rpy="0 0 0" />
      <geometry>
        <mesh
          filename="package://HU_D04_description/meshes/HU_D04_01/left_wrist_pitch_link.STL" />
      </geometry>
      <material
        name="">
        <color
          rgba="0.75294 0.75294 0.75294 1" />
      </material>
    </visual>
    <!-- <collision>
      <origin
        xyz="0 0 0"
        rpy="0 0 0" />
      <geometry>
        <mesh
          filename="package://HU_D04_description/meshes/HU_D04_01/left_wrist_pitch_link.STL" />
      </geometry>
    </collision> -->
  </link>
  <joint name="left_wrist_pitch_joint"
    type="revolute">
    <origin
      xyz="0 0 -0.0342"
      rpy="0 0 0" />
    <parent
      link="left_wrist_yaw_link" />
    <child
      link="left_wrist_pitch_link" />
    <axis
      xyz="0 1 0" />
    <limit
      lower="-1.571"
      upper="1.571"
      effort="19"
      velocity="13" />
  </joint>
  <link name="left_wrist_roll_link">
    <inertial>
      <origin
        xyz="-0.00051 -8.9E-05 -0.029603"
        rpy="0 0 0" />
      <mass
        value="0.302626" />
      <inertia
        ixx="0.000231"
        ixy="0"
        ixz="0.000001"
        iyy="0.000313"
        iyz="0"
        izz="0.000308" />
    </inertial>
    <visual>
      <origin
        xyz="0 0 0"
        rpy="0 0 0" />
      <geometry>
        <mesh
          filename="package://HU_D04_description/meshes/HU_D04_01/left_wrist_roll_short_link.STL" />
      </geometry>
      <material
        name="">
        <color
          rgba="0.75294 0.75294 0.75294 1" />
      </material>
    </visual>
    <!-- <collision>
      <origin
        xyz="0 0 0"
        rpy="0 0 0" />
      <geometry>
        <mesh
          filename="package://HU_D04_description/meshes/HU_D04_01/left_wrist_roll_short_link.STL" />
      </geometry>
    </collision> -->
  </link>
  <joint name="left_wrist_roll_joint"
    type="revolute">
    <origin
      xyz="0 0 -0.065"
      rpy="0 0 0" />
    <parent
      link="left_wrist_pitch_link" />
    <child
      link="left_wrist_roll_link" />
    <axis
      xyz="1 0 0" />
    <limit
      lower="-1.571"
      upper="1.571"
      effort="19"
      velocity="13" />
  </joint>

  <!-- Left hand Contact -->
  <joint name="left_hand_contact_joint" type="fixed">
    <origin xyz="0 0 -0.058" rpy="0 0 0" />
    <parent link="left_wrist_roll_link" />
    <child link="left_hand_contact" />
  </joint>
  <link name="left_hand_contact">
    <inertial>
      <origin xyz=".0 .0 .0" rpy="0 0 0" />
      <mass value="0.001" />
      <inertia 
        ixx="0.0000001" 
        ixy="0.0" 
        ixz="0.0" 
        iyy="0.0000001" 
        iyz="0.0" 
        izz="0.0000001" />
    </inertial>
    <visual>
      <origin xyz="0 0 0" rpy="0 0 0" />
      <geometry>
        <box size="0.01 0.01 0.01"/>
      </geometry>
      <material name="">
        <color rgba="1 0 0 1" />
      </material>
    </visual>
  </link>

  <!-- Left hand For Manipulation -->
  <joint name="left_hand_manip_joint" type="fixed">
    <origin xyz="0 0 -0.058" rpy="0 1.5708 0" />
    <parent link="left_wrist_roll_link" />
    <child link="left_hand_manip" />
  </joint>
  <link name="left_hand_manip">
    <inertial>
      <origin xyz=".0 .0 .0" rpy="0 0 0" />
      <mass value="0.001" />
      <inertia 
        ixx="0.0000001" 
        ixy="0.0" 
        ixz="0.0" 
        iyy="0.0000001" 
        iyz="0.0" 
        izz="0.0000001" />
    </inertial>
    <visual>
      <origin xyz="0 0 0" rpy="0 0 0" />
      <geometry>
        <box size="0.01 0.01 0.01"/>
      </geometry>
      <material name="">
        <color rgba="1 0 0 1" />
      </material>
    </visual>
  </link>

  <link name="right_shoulder_pitch_link">
    <inertial>
      <origin
        xyz="0.003151 -0.031104 -2.2E-05"
        rpy="0 0 0" />
      <mass
        value="0.244765" />
      <inertia
        ixx="0.000253"
        ixy="2.3E-05"
        ixz="0"
        iyy="0.000367"
        iyz="0"
        izz="0.000429" />
    </inertial>
    <visual>
      <origin
        xyz="0 0 0"
        rpy="0 0 0" />
      <geometry>
        <mesh
          filename="package://HU_D04_description/meshes/HU_D04_01/right_shoulder_pitch_link.STL" />
      </geometry>
      <material
        name="">
        <color
          rgba="0.75294 0.75294 0.75294 1" />
      </material>
    </visual>
    <!-- <collision>
      <origin
        xyz="0 0 0"
        rpy="0 0 0" />
      <geometry>
        <mesh
          filename="package://HU_D04_description/meshes/HU_D04_01/right_shoulder_pitch_link.STL" />
      </geometry>
    </collision> -->
  </link>
  <joint name="right_shoulder_pitch_joint"
    type="revolute">
    <origin
      xyz="0 -0.1589 0.2822"
      rpy="0 0 0" />
    <parent
      link="waist_pitch_link" />
    <child
      link="right_shoulder_pitch_link" />
    <axis
      xyz="0 1 0" />
    <limit
      lower="-2.792"
      upper="2.792"
      effort="42"
      velocity="19.6" />
  </joint>
  <link name="right_shoulder_roll_link">
    <inertial>
      <origin
        xyz="0.003553 8E-05 -0.046159"
        rpy="0 0 0" />
      <mass
        value="1.727406" />
      <inertia
        ixx="0.00488"
        ixy="2E-06"
        ixz="-0.000255"
        iyy="0.004864"
        iyz="1E-06"
        izz="0.001378" />
    </inertial>
    <visual>
      <origin
        xyz="0 0 0"
        rpy="0 0 0" />
      <geometry>
        <mesh
          filename="package://HU_D04_description/meshes/HU_D04_01/right_shoulder_roll_link.STL" />
      </geometry>
      <material
        name="">
        <color
          rgba="0.75294 0.75294 0.75294 1" />
      </material>
    </visual>
    <!-- <collision>
      <origin
        xyz="0 0 0"
        rpy="0 0 0" />
      <geometry>
        <mesh
          filename="package://HU_D04_description/meshes/HU_D04_01/right_shoulder_roll_link.STL" />
      </geometry>
    </collision> -->
  </link>
  <joint name="right_shoulder_roll_joint"
    type="revolute">
    <origin
      xyz="0 -0.055 0"
      rpy="0 0 0" />
    <parent
      link="right_shoulder_pitch_link" />
    <child
      link="right_shoulder_roll_link" />
    <axis
      xyz="1 0 0" />
    <limit
      lower="-3.229"
      upper="0.087"
      effort="42"
      velocity="19.6" />
  </joint>
  <link name="right_shoulder_yaw_link">
    <inertial>
      <origin
        xyz="-0.009999 -0.003523 -0.06579"
        rpy="0 0 0" />
      <mass
        value="0.306436" />
      <inertia
        ixx="0.000871"
        ixy="9E-06"
        ixz="-1.9E-05"
        iyy="0.000736"
        iyz="-3.8E-05"
        izz="0.000405" />
    </inertial>
    <visual>
      <origin
        xyz="0 0 0"
        rpy="0 0 0" />
      <geometry>
        <mesh
          filename="package://HU_D04_description/meshes/HU_D04_01/right_shoulder_yaw_link.STL" />
      </geometry>
      <material
        name="">
        <color
          rgba="0.75294 0.75294 0.75294 1" />
      </material>
    </visual>
    <!-- <collision>
      <origin
        xyz="0 0 0"
        rpy="0 0 0" />
      <geometry>
        <mesh
          filename="package://HU_D04_description/meshes/HU_D04_01/right_shoulder_yaw_link.STL" />
      </geometry>
    </collision> -->
  </link>
  <joint name="right_shoulder_yaw_joint"
    type="revolute">
    <origin
      xyz="0 0 -0.1306"
      rpy="0 0 0" />
    <parent
      link="right_shoulder_roll_link" />
    <child
      link="right_shoulder_yaw_link" />
    <axis
      xyz="0 0 1" />
    <limit
      lower="-1.571"
      upper="3.403"
      effort="42"
      velocity="19.6" />
  </joint>
  <link name="right_elbow_link">
    <inertial>
      <origin
        xyz="0.000057 -0.004497 -0.027441"
        rpy="0 0 0" />
      <mass
        value="1.275459" />
      <inertia
        ixx="0.002852"
        ixy="0.000003"
        ixz="0.000017"
        iyy="0.002876"
        iyz="0.000129"
        izz="0.000888" />
    </inertial>
    <visual>
      <origin
        xyz="0 0 0"
        rpy="0 0 0" />
      <geometry>
        <mesh
          filename="package://HU_D04_description/meshes/HU_D04_01/right_elbow_link.STL" />
      </geometry>
      <material
        name="">
        <color
          rgba="0.75294 0.75294 0.75294 1" />
      </material>
    </visual>
    <!-- <collision>
      <origin
        xyz="0 0 0"
        rpy="0 0 0" />
      <geometry>
        <mesh
          filename="package://HU_D04_description/meshes/HU_D04_01/right_elbow_link.STL" />
      </geometry>
    </collision> -->
  </link>
  <joint name="right_elbow_joint"
    type="revolute">
    <origin
      xyz="0 0 -0.1157"
      rpy="0 0 0" />
    <parent
      link="right_shoulder_yaw_link" />
    <child
      link="right_elbow_link" />
    <axis
      xyz="0 1 0" />
    <limit
      lower="-2.443"
      upper="1.571"
      effort="42"
      velocity="19.6" />
  </joint>
  <link name="right_wrist_yaw_link">
    <inertial>
      <origin
        xyz="-0.002420 -0.000421 -0.014840"
        rpy="0 0 0" />
      <mass
        value="0.132906" />
      <inertia
        ixx="0.000145"
        ixy="0"
        ixz="0"
        iyy="0.000086"
        iyz="-0.000001"
        izz="0.000142" />
    </inertial>
    <visual>
      <origin
        xyz="0 0 0"
        rpy="0 0 0" />
      <geometry>
        <mesh
          filename="package://HU_D04_description/meshes/HU_D04_01/right_wrist_yaw_link.STL" />
      </geometry>
      <material
        name="">
        <color
          rgba="0.75294 0.75294 0.75294 1" />
      </material>
    </visual>
    <!-- <collision>
      <origin
        xyz="0 0 0"
        rpy="0 0 0" />
      <geometry>
        <mesh
          filename="package://HU_D04_description/meshes/HU_D04_01/right_wrist_yaw_link.STL" />
      </geometry>
    </collision> -->
  </link>
  <joint name="right_wrist_yaw_joint"
    type="revolute">
    <origin
      xyz="0 -0.001 -0.1188"
      rpy="0 0 0" />
    <parent
      link="right_elbow_link" />
    <child
      link="right_wrist_yaw_link" />
    <axis
      xyz="0 0 1" />
    <limit
      lower="-0.785"
      upper="2.356"
      effort="19"
      velocity="13" />
  </joint>
  <link name="right_wrist_pitch_link">
    <inertial>
      <origin
        xyz="0.001436 -0.001303 -0.032233"
        rpy="0 0 0" />
      <mass
        value="0.658602" />
      <inertia
        ixx="0.000952"
        ixy="-0.000001"
        ixz="0.000028"
        iyy="0.000963"
        iyz="0.000024"
        izz="0.000296" />
    </inertial>
    <visual>
      <origin
        xyz="0 0 0"
        rpy="0 0 0" />
      <geometry>
        <mesh
          filename="package://HU_D04_description/meshes/HU_D04_01/right_wrist_pitch_link.STL" />
      </geometry>
      <material
        name="">
        <color
          rgba="0.75294 0.75294 0.75294 1" />
      </material>
    </visual>
    <!-- <collision>
      <origin
        xyz="0 0 0"
        rpy="0 0 0" />
      <geometry>
        <mesh
          filename="package://HU_D04_description/meshes/HU_D04_01/right_wrist_pitch_link.STL" />
      </geometry>
    </collision> -->
  </link>
  <joint name="right_wrist_pitch_joint"
    type="revolute">
    <origin
      xyz="0 0 -0.0342"
      rpy="0 0 0" />
    <parent
      link="right_wrist_yaw_link" />
    <child
      link="right_wrist_pitch_link" />
    <axis
      xyz="0 1 0" />
    <limit
      lower="-1.571"
      upper="1.571"
      effort="19"
      velocity="13" />
  </joint>
  <link name="right_wrist_roll_link">
    <inertial>
      <origin
        xyz="-0.000511 -8.9E-05 -0.029603"
        rpy="0 0 0" />
      <mass
        value="0.302626" />
      <inertia
        ixx="0.000231"
        ixy="0"
        ixz="0.000001"
        iyy="0.000313"
        iyz="0"
        izz="0.000308" />
    </inertial>
    <visual>
      <origin
        xyz="0 0 0"
        rpy="0 0 0" />
      <geometry>
        <mesh
          filename="package://HU_D04_description/meshes/HU_D04_01/right_wrist_roll_short_link.STL" />
      </geometry>
      <material
        name="">
        <color
          rgba="0.75294 0.75294 0.75294 1" />
      </material>
    </visual>
    <!-- <collision>
      <origin
        xyz="0 0 0"
        rpy="0 0 0" />
      <geometry>
        <mesh
          filename="package://HU_D04_description/meshes/HU_D04_01/right_wrist_roll_short_link.STL" />
      </geometry>
    </collision> -->
  </link>
  <joint name="right_wrist_roll_joint"
    type="revolute">
    <origin
      xyz="0 0 -0.065"
      rpy="0 0 0" />
    <parent
      link="right_wrist_pitch_link" />
    <child
      link="right_wrist_roll_link" />
    <axis
      xyz="1 0 0" />
    <limit
      lower="-1.571"
      upper="1.571"
      effort="19"
      velocity="13" />
  </joint>

  <!-- Right hand Contact -->
  <joint name="right_hand_contact_joint" type="fixed">
    <origin xyz="0 0 -0.058" rpy="0 0 0" />
    <parent link="right_wrist_roll_link" />
    <child link="right_hand_contact" />
  </joint>
  <link name="right_hand_contact">
    <inertial>
      <origin xyz=".0 .0 .0" rpy="0 0 0" />
      <mass value="0.001" />
      <inertia 
        ixx="0.0000001" 
        ixy="0.0" 
        ixz="0.0" 
        iyy="0.0000001" 
        iyz="0.0" 
        izz="0.0000001" />
    </inertial>
    <visual>
      <origin xyz="0 0 0" rpy="0 0 0" />
      <geometry>
        <box size="0.01 0.01 0.01"/>
      </geometry>
      <material name="">
        <color rgba="1 0 0 1" />
      </material>
    </visual>
  </link>

  <!-- Right hand For Manipulation -->
  <joint name="right_hand_manip_joint" type="fixed">
    <origin xyz="0 0 -0.058" rpy="0 1.5708 0" />
    <parent link="right_wrist_roll_link" />
    <child link="right_hand_manip" />
  </joint>
  <link name="right_hand_manip">
    <inertial>
      <origin xyz=".0 .0 .0" rpy="0 0 0" />
      <mass value="0.001" />
      <inertia 
        ixx="0.0000001" 
        ixy="0.0" 
        ixz="0.0" 
        iyy="0.0000001" 
        iyz="0.0" 
        izz="0.0000001" />
    </inertial>
    <visual>
      <origin xyz="0 0 0" rpy="0 0 0" />
      <geometry>
        <box size="0.01 0.01 0.01"/>
      </geometry>
      <material name="">
        <color rgba="1 0 0 1" />
      </material>
    </visual>
  </link>
  
  <link name="head_yaw_link">
    <inertial>
      <origin
        xyz="-7E-05 0.002132 0.037884"
        rpy="0 0 0" />
      <mass
        value="0.35819" />
      <inertia
        ixx="0.000163"
        ixy="0"
        ixz="2E-06"
        iyy="0.000162"
        iyz="2E-06"
        izz="0.000146" />
    </inertial>
    <visual>
      <origin
        xyz="0 0 0"
        rpy="0 0 0" />
      <geometry>
        <mesh
          filename="package://HU_D04_description/meshes/HU_D04_01/neck_yaw_link.STL" />
      </geometry>
      <material
        name="">
        <color
          rgba="0.75294 0.75294 0.75294 1" />
      </material>
    </visual>
    <!-- <collision>
      <origin
        xyz="0 0 0"
        rpy="0 0 0" />
      <geometry>
        <mesh
          filename="package://HU_D04_description/meshes/HU_D04_01/neck_yaw_link.STL" />
      </geometry>
    </collision> -->
  </link>
  <joint name="head_yaw_joint"
    type="revolute">
    <origin
      xyz="-0.013 0 0.3882"
      rpy="0 0 0" />
    <parent
      link="waist_pitch_link" />
    <child
      link="head_yaw_link" />
    <axis
      xyz="0 0 1" />
    <limit
      lower="-0.785"
      upper="0.785"
      effort="19"
      velocity="13" />
  </joint>
  <link name="head_pitch_link">
    <inertial>
      <origin
        xyz="0.010255 -0.000319 0.069397"
        rpy="0 0 0" />
      <mass
        value="0.776041" />
      <inertia
        ixx="0.00265"
        ixy="-2E-06"
        ixz="0.000195"
        iyy="0.002337"
        iyz="0"
        izz="0.003495" />
    </inertial>
    <visual>
      <origin
        xyz="0 0 0"
        rpy="0 0 0" />
      <geometry>
        <mesh
          filename="package://HU_D04_description/meshes/HU_D04_01/neck_pitch_link.STL" />
      </geometry>
      <material
        name="">
        <color
          rgba="0.75294 0.75294 0.75294 1" />
      </material>
    </visual>
    <!-- <collision>
      <origin
        xyz="0 0 0"
        rpy="0 0 0" />
      <geometry>
        <mesh
          filename="package://HU_D04_description/meshes/HU_D04_01/neck_pitch_link.STL" />
      </geometry>
    </collision> -->
  </link>
  <joint name="head_pitch_joint"
    type="revolute">
    <origin
      xyz="0 0 0.0395"
      rpy="0 0 0" />
    <parent
      link="head_yaw_link" />
    <child
      link="head_pitch_link" />
    <axis
      xyz="0 1 0" />
    <limit
      lower="-0.524"
      upper="0.785"
      effort="19"
      velocity="13" />
  </joint>

  
  <!-- left hand  -->
  <link
    name="left_gripper_link_0">
    <inertial>
      <origin
        xyz="0.00339303654278191 -2.1205433560656E-05 -0.0099185365078758"
        rpy="0 0 0" />
      <mass
        value="0.105853592307918" />
      <inertia
        ixx="3.93795927851199E-05"
        ixy="-8.7395226509728E-08"
        ixz="5.91928672040786E-07"
        iyy="0.000106376720416166"
        iyz="-1.82858764303774E-10"
        izz="0.000125852616063213" />
    </inertial>
    <visual>
      <origin
        xyz="0 0 0"
        rpy="0 0 0" />
      <geometry>
        <mesh
          filename="package://HU_D04_description/meshes/HU_D04_01/gripper_link_0.STL" />
      </geometry>
      <material
        name="">
        <color
          rgba="0.894117647058823 0.913725490196078 0.929411764705882 1" />
      </material>
    </visual>
    <collision>
      <origin
        xyz="0 0 0"
        rpy="0 0 0" />
      <geometry>
        <mesh
          filename="package://HU_D04_description/meshes/HU_D04_01/gripper_link_0.STL" />
      </geometry>
    </collision>
  </link>
  <joint name="left_gripper_joint_0" type="fixed">
    <origin xyz="0.008 0 -0.1055" rpy="0 1.578 0" />
    <parent link="left_wrist_roll_link" />
    <child link="left_gripper_link_0" />
  </joint>
  <link
    name="left_gripper_link_1">
    <inertial>
      <origin
        xyz="0.0164149658242926 9.75754915755189E-09 0.00898193900447147"
        rpy="0 0 0" />
      <mass
        value="0.00647716099397792" />
      <inertia
        ixx="2.95068972140683E-07"
        ixy="8.63208170411155E-13"
        ixz="-1.92008628754607E-09"
        iyy="1.69979619476872E-06"
        iyz="-1.99232397395103E-13"
        izz="1.45016449434989E-06" />
    </inertial>
    <visual>
      <origin
        xyz="0 0 0"
        rpy="0 0 0" />
      <geometry>
        <mesh
          filename="package://HU_D04_description/meshes/HU_D04_01/gripper_link_1.STL" />
      </geometry>
      <material
        name="">
        <color
          rgba="0.894117647058823 0.913725490196078 0.929411764705882 1" />
      </material>
    </visual>
    <collision>
      <origin
        xyz="0 0 0"
        rpy="0 0 0" />
      <geometry>
        <mesh
          filename="package://HU_D04_description/meshes/HU_D04_01/gripper_link_1.STL" />
      </geometry>
    </collision>
  </link>
  <joint
    name="left_gripper_joint_1"
    type="revolute">
    <origin
      xyz="0.036 -0.04 -0.019"
      rpy="-3.0158E-16 -7.1586E-16 -0.30719" />
    <parent
      link="left_gripper_link_0" />
    <child
      link="left_gripper_link_1" />
    <axis
      xyz="0 0 1" />
    <limit
      lower="0"
      upper="1"
      effort="1"
      velocity="50" />
  </joint>
  <link
    name="left_gripper_link_2">
    <inertial>
      <origin
        xyz="0.011366555972498 0.0118642725662323 0.0060000073930068"
        rpy="0 0 0" />
      <mass
        value="0.0127543420299361" />
      <inertia
        ixx="5.68538478020233E-07"
        ixy="-2.68012262729007E-07"
        ixz="9.34125984931838E-13"
        iyy="1.45145776457487E-06"
        iyz="9.34355360561326E-13"
        izz="1.50564598220449E-06" />
    </inertial>
    <visual>
      <origin
        xyz="0 0 0"
        rpy="0 0 0" />
      <geometry>
        <mesh
          filename="package://HU_D04_description/meshes/HU_D04_01/gripper_link_2.STL" />
      </geometry>
      <material
        name="">
        <color
          rgba="0.894117647058823 0.913725490196078 0.929411764705882 1" />
      </material>
    </visual>
    <collision>
      <origin
        xyz="0 0 0"
        rpy="0 0 0" />
      <geometry>
        <mesh
          filename="package://HU_D04_description/meshes/HU_D04_01/gripper_link_2.STL" />
      </geometry>
    </collision>
  </link>
  <joint
    name="left_gripper_joint_2"
    type="revolute">
    <origin
      xyz="0.042 0 0.003"
      rpy="5.0393E-16 5.6225E-16 0.30719" />
    <parent
      link="left_gripper_link_1" />
    <child
      link="left_gripper_link_2" />
    <axis
      xyz="0 0 -1" />
    <limit
      lower="0"
      upper="1"
      effort="1"
      velocity="50" />
    <mimic
        joint="left_gripper_joint_1"
      multiplier="1"
      offset="0" />
  </joint>
  <link
    name="left_gripper_link_3">
    <inertial>
      <origin
        xyz="0.0164149658242926 9.75754915755189E-09 0.00898193900447147"
        rpy="0 0 0" />
      <mass
        value="0.00647716099397793" />
      <inertia
        ixx="2.95068972140683E-07"
        ixy="8.63208169650113E-13"
        ixz="-1.92008628755341E-09"
        iyy="1.69979619476872E-06"
        iyz="-1.99232397320157E-13"
        izz="1.45016449434989E-06" />
    </inertial>
    <visual>
      <origin
        xyz="0 0 0"
        rpy="0 0 0" />
      <geometry>
        <mesh
          filename="package://HU_D04_description/meshes/HU_D04_01/gripper_link_3.STL" />
      </geometry>
      <material
        name="">
        <color
          rgba="0.894117647058823 0.913725490196078 0.929411764705882 1" />
      </material>
    </visual>
    <collision>
      <origin
        xyz="0 0 0"
        rpy="0 0 0" />
      <geometry>
        <mesh
          filename="package://HU_D04_description/meshes/HU_D04_01/gripper_link_3.STL" />
      </geometry>
    </collision>
  </link>
  <joint
    name="left_gripper_joint_3"
    type="revolute">
    <origin
      xyz="0.036 0.04 -0.019"
      rpy="-2.6397E-16 3.7199E-16 0.30719" />
    <parent
      link="left_gripper_link_0" />
    <child
      link="left_gripper_link_3" />
    <axis
      xyz="0 0 -1" />
    <limit
      lower="0"
      upper="1"
      effort="1"
      velocity="50" />
  </joint>
  <link
    name="left_gripper_link_4">
    <inertial>
      <origin
        xyz="-0.011366555972498 0.0118642725662323 -0.0060000073930068"
        rpy="0 0 0" />
      <mass
        value="0.0127543420299362" />
      <inertia
        ixx="5.68538478020238E-07"
        ixy="2.6801226272901E-07"
        ixz="9.34125986250171E-13"
        iyy="1.45145776457489E-06"
        iyz="-9.34355361631596E-13"
        izz="1.5056459822045E-06" />
    </inertial>
    <visual>
      <origin
        xyz="0 0 0"
        rpy="0 0 0" />
      <geometry>
        <mesh
          filename="package://HU_D04_description/meshes/HU_D04_01/gripper_link_4.STL" />
      </geometry>
      <material
        name="">
        <color
          rgba="0.894117647058823 0.913725490196078 0.929411764705882 1" />
      </material>
    </visual>
    <collision>
      <origin
        xyz="0 0 0"
        rpy="0 0 0" />
      <geometry>
        <mesh
          filename="package://HU_D04_description/meshes/HU_D04_01/gripper_link_4.STL" />
      </geometry>
    </collision>
  </link>
  <joint
    name="left_gripper_joint_4"
    type="revolute">
    <origin
      xyz="0.042 0 0.015"
      rpy="-3.641E-16 2.4584E-16 2.8344" />
    <parent
      link="left_gripper_link_3" />
    <child
      link="left_gripper_link_4" />
    <axis
      xyz="0 0 1" />
    <limit
      lower="0"
      upper="1"
      effort="1"
      velocity="50" />
    <mimic
        joint="left_gripper_joint_3"
        multiplier="1"
      offset="0" />
  </joint>

  <!-- right hand -->
  <link
    name="right_gripper_link_0">
    <inertial>
      <origin
        xyz="0.00339303654278191 -2.1205433560656E-05 -0.0099185365078758"
        rpy="0 0 0" />
      <mass
        value="0.105853592307918" />
      <inertia
        ixx="3.93795927851199E-05"
        ixy="-8.7395226509728E-08"
        ixz="5.91928672040786E-07"
        iyy="0.000106376720416166"
        iyz="-1.82858764303774E-10"
        izz="0.000125852616063213" />
    </inertial>
    <visual>
      <origin
        xyz="0 0 0"
        rpy="0 0 0" />
      <geometry>
        <mesh
          filename="package://HU_D04_description/meshes/HU_D04_01/gripper_link_0.STL" />
      </geometry>
      <material
        name="">
        <color
          rgba="0.894117647058823 0.913725490196078 0.929411764705882 1" />
      </material>
    </visual>
    <collision>
      <origin
        xyz="0 0 0"
        rpy="0 0 0" />
      <geometry>
        <mesh
          filename="package://HU_D04_description/meshes/HU_D04_01/gripper_link_0.STL" />
      </geometry>
    </collision>
  </link>
  <joint name="right_gripper_joint_0" type="fixed">
    <origin xyz="0.008 0 -0.1055" rpy="0 1.578 0" />
    <parent link="right_wrist_roll_link" />
    <child link="right_gripper_link_0" />
  </joint>
  <link
    name="right_gripper_link_1">
    <inertial>
      <origin
        xyz="0.0164149658242926 9.75754915755189E-09 0.00898193900447147"
        rpy="0 0 0" />
      <mass
        value="0.00647716099397792" />
      <inertia
        ixx="2.95068972140683E-07"
        ixy="8.63208170411155E-13"
        ixz="-1.92008628754607E-09"
        iyy="1.69979619476872E-06"
        iyz="-1.99232397395103E-13"
        izz="1.45016449434989E-06" />
    </inertial>
    <visual>
      <origin
        xyz="0 0 0"
        rpy="0 0 0" />
      <geometry>
        <mesh
          filename="package://HU_D04_description/meshes/HU_D04_01/gripper_link_1.STL" />
      </geometry>
      <material
        name="">
        <color
          rgba="0.894117647058823 0.913725490196078 0.929411764705882 1" />
      </material>
    </visual>
    <collision>
      <origin
        xyz="0 0 0"
        rpy="0 0 0" />
      <geometry>
        <mesh
          filename="package://HU_D04_description/meshes/HU_D04_01/gripper_link_1.STL" />
      </geometry>
    </collision>
  </link>
  <joint
    name="right_gripper_joint_1"
    type="revolute">
    <origin
      xyz="0.036 -0.04 -0.019"
      rpy="-3.0158E-16 -7.1586E-16 -0.30719" />
    <parent
      link="right_gripper_link_0" />
    <child
      link="right_gripper_link_1" />
    <axis
      xyz="0 0 1" />
    <limit
      lower="0"
      upper="1"
      effort="1"
      velocity="50" />
  </joint>
  <link
    name="right_gripper_link_2">
    <inertial>
      <origin
        xyz="0.011366555972498 0.0118642725662323 0.0060000073930068"
        rpy="0 0 0" />
      <mass
        value="0.0127543420299361" />
      <inertia
        ixx="5.68538478020233E-07"
        ixy="-2.68012262729007E-07"
        ixz="9.34125984931838E-13"
        iyy="1.45145776457487E-06"
        iyz="9.34355360561326E-13"
        izz="1.50564598220449E-06" />
    </inertial>
    <visual>
      <origin
        xyz="0 0 0"
        rpy="0 0 0" />
      <geometry>
        <mesh
          filename="package://HU_D04_description/meshes/HU_D04_01/gripper_link_2.STL" />
      </geometry>
      <material
        name="">
        <color
          rgba="0.894117647058823 0.913725490196078 0.929411764705882 1" />
      </material>
    </visual>
    <collision>
      <origin
        xyz="0 0 0"
        rpy="0 0 0" />
      <geometry>
        <mesh
          filename="package://HU_D04_description/meshes/HU_D04_01/gripper_link_2.STL" />
      </geometry>
    </collision>
  </link>
  <joint
    name="right_gripper_joint_2"
    type="revolute">
    <origin
      xyz="0.042 0 0.003"
      rpy="5.0393E-16 5.6225E-16 0.30719" />
    <parent
      link="right_gripper_link_1" />
    <child
      link="right_gripper_link_2" />
    <axis
      xyz="0 0 -1" />
    <limit
      lower="0"
      upper="1"
      effort="1"
      velocity="50" />
    <mimic
        joint="right_gripper_joint_1"
      multiplier="1"
      offset="0" />
  </joint>
  <link
    name="right_gripper_link_3">
    <inertial>
      <origin
        xyz="0.0164149658242926 9.75754915755189E-09 0.00898193900447147"
        rpy="0 0 0" />
      <mass
        value="0.00647716099397793" />
      <inertia
        ixx="2.95068972140683E-07"
        ixy="8.63208169650113E-13"
        ixz="-1.92008628755341E-09"
        iyy="1.69979619476872E-06"
        iyz="-1.99232397320157E-13"
        izz="1.45016449434989E-06" />
    </inertial>
    <visual>
      <origin
        xyz="0 0 0"
        rpy="0 0 0" />
      <geometry>
        <mesh
          filename="package://HU_D04_description/meshes/HU_D04_01/gripper_link_3.STL" />
      </geometry>
      <material
        name="">
        <color
          rgba="0.894117647058823 0.913725490196078 0.929411764705882 1" />
      </material>
    </visual>
    <collision>
      <origin
        xyz="0 0 0"
        rpy="0 0 0" />
      <geometry>
        <mesh
          filename="package://HU_D04_description/meshes/HU_D04_01/gripper_link_3.STL" />
      </geometry>
    </collision>
  </link>
  <joint
    name="right_gripper_joint_3"
    type="revolute">
    <origin
      xyz="0.036 0.04 -0.019"
      rpy="-2.6397E-16 3.7199E-16 0.30719" />
    <parent
      link="right_gripper_link_0" />
    <child
      link="right_gripper_link_3" />
    <axis
      xyz="0 0 -1" />
    <limit
      lower="0"
      upper="1"
      effort="1"
      velocity="50" />
  </joint>
  <link
    name="right_gripper_link_4">
    <inertial>
      <origin
        xyz="-0.011366555972498 0.0118642725662323 -0.0060000073930068"
        rpy="0 0 0" />
      <mass
        value="0.0127543420299362" />
      <inertia
        ixx="5.68538478020238E-07"
        ixy="2.6801226272901E-07"
        ixz="9.34125986250171E-13"
        iyy="1.45145776457489E-06"
        iyz="-9.34355361631596E-13"
        izz="1.5056459822045E-06" />
    </inertial>
    <visual>
      <origin
        xyz="0 0 0"
        rpy="0 0 0" />
      <geometry>
        <mesh
          filename="package://HU_D04_description/meshes/HU_D04_01/gripper_link_4.STL" />
      </geometry>
      <material
        name="">
        <color
          rgba="0.894117647058823 0.913725490196078 0.929411764705882 1" />
      </material>
    </visual>
    <collision>
      <origin
        xyz="0 0 0"
        rpy="0 0 0" />
      <geometry>
        <mesh
          filename="package://HU_D04_description/meshes/HU_D04_01/gripper_link_4.STL" />
      </geometry>
    </collision>
  </link>
  <joint
    name="right_gripper_joint_4"
    type="revolute">
    <origin
      xyz="0.042 0 0.015"
      rpy="-3.641E-16 2.4584E-16 2.8344" />
    <parent
      link="right_gripper_link_3" />
    <child
      link="right_gripper_link_4" />
    <axis
      xyz="0 0 1" />
    <limit
      lower="0"
      upper="1"
      effort="1"
      velocity="50" />
    <mimic
        joint="right_gripper_joint_3"
        multiplier="1"
      offset="0" />
  </joint>

</robot>
